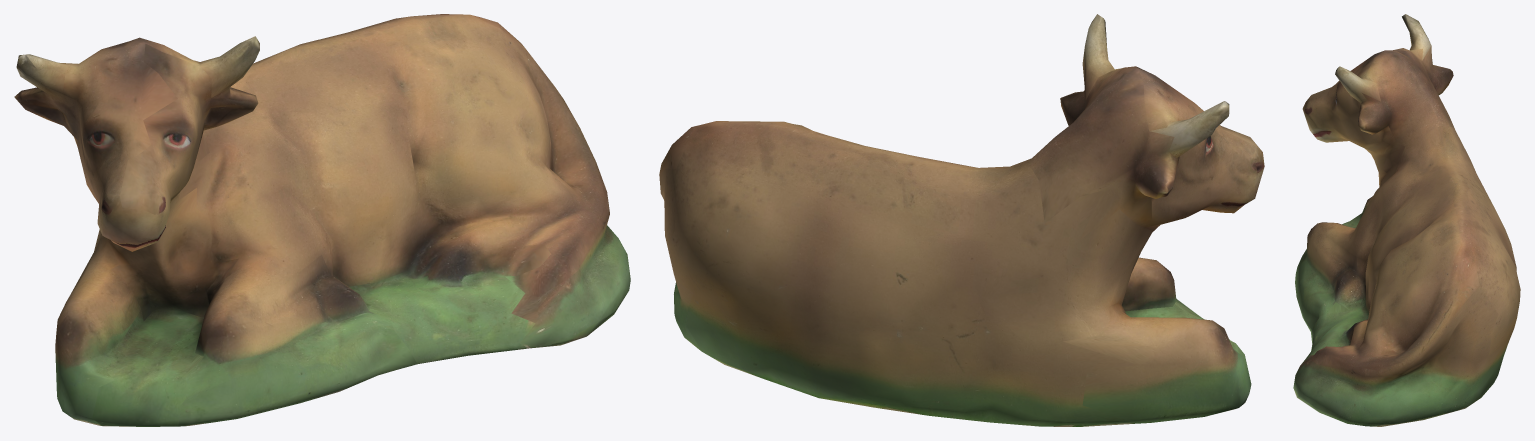
File: bueyBaixRes.obj
The picture shows the model from 3 angles, left to right: view 1: azimuth 30°, elevation 25°; view 2: azimuth 150°, elevation 25°; view 3: azimuth 270°, elevation 25°; orthographic projection. The views are drawn at different scales.
Parts seen in each view (by area): view 1: Vaca_LP2; view 2: Vaca_LP2; view 3: Vaca_LP2.
Boxes of the visible parts, x1,y1,x2,y2 form: Vaca_LP2: (14,14,630,426); Vaca_LP2: (659,14,1264,426); Vaca_LP2: (1293,14,1520,426).
Size of the model in its own units: 0.174 by 0.1019 by 0.0885.
1 material, 1 textured.
